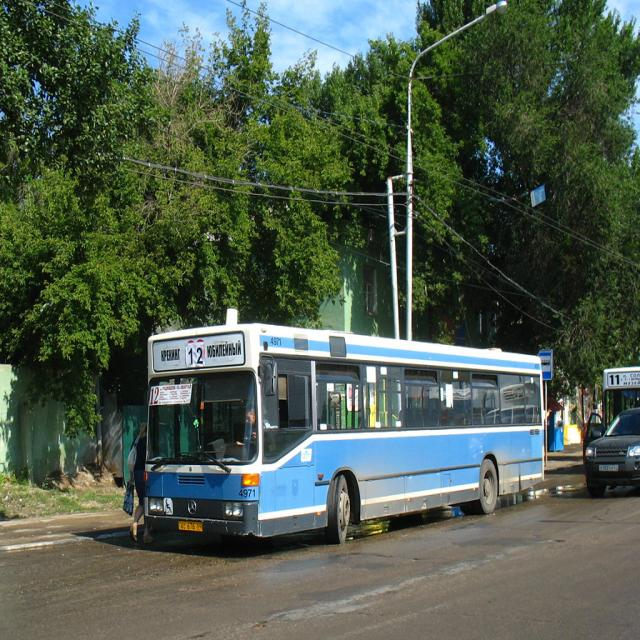number-of-bus: (186, 342, 206, 369), (150, 387, 160, 406)
